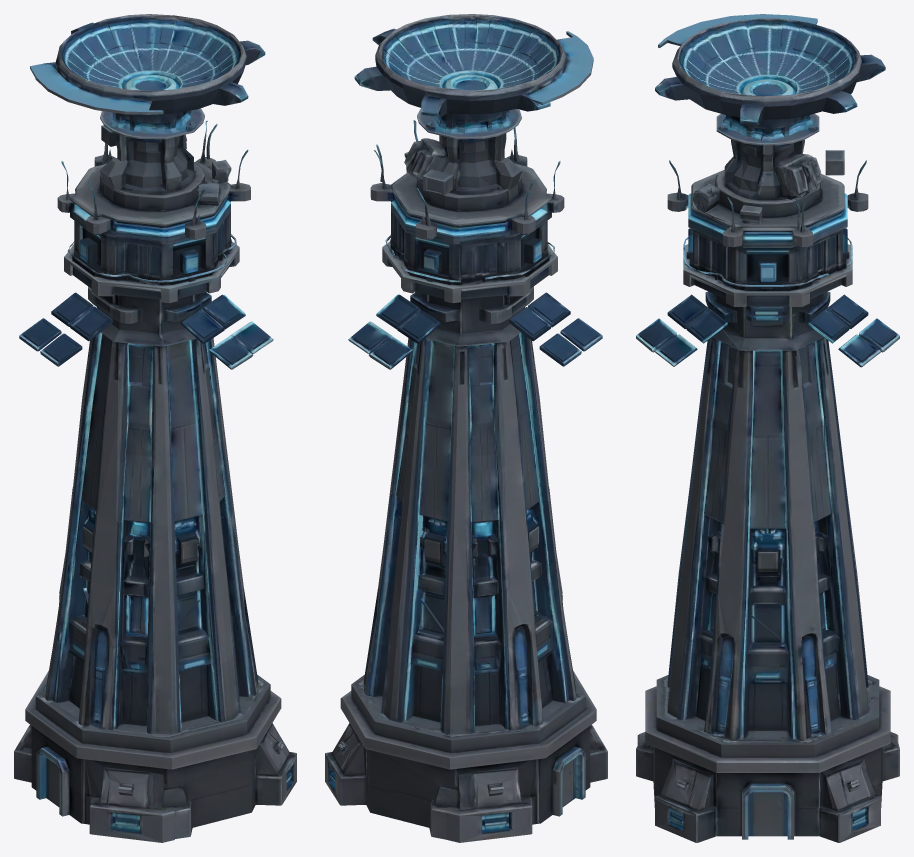
File: radar_array_LOD0.glb
3 views of the same model, side by side, from view 1: azimuth 30°, elevation 25°; view 2: azimuth 150°, elevation 25°; view 3: azimuth 270°, elevation 25° (orthographic).
Visible parts, largest first — view 1: radar_array_LOD0; view 2: radar_array_LOD0; view 3: radar_array_LOD0.
Boxes of the visible parts, bbox=[...] form: radar_array_LOD0: bbox=[14, 14, 296, 842]; radar_array_LOD0: bbox=[325, 14, 607, 842]; radar_array_LOD0: bbox=[636, 14, 899, 842].
Bounding box in the file's own units: 0.3178 × 0.9961 × 0.3255.
1 material, 1 textured.
